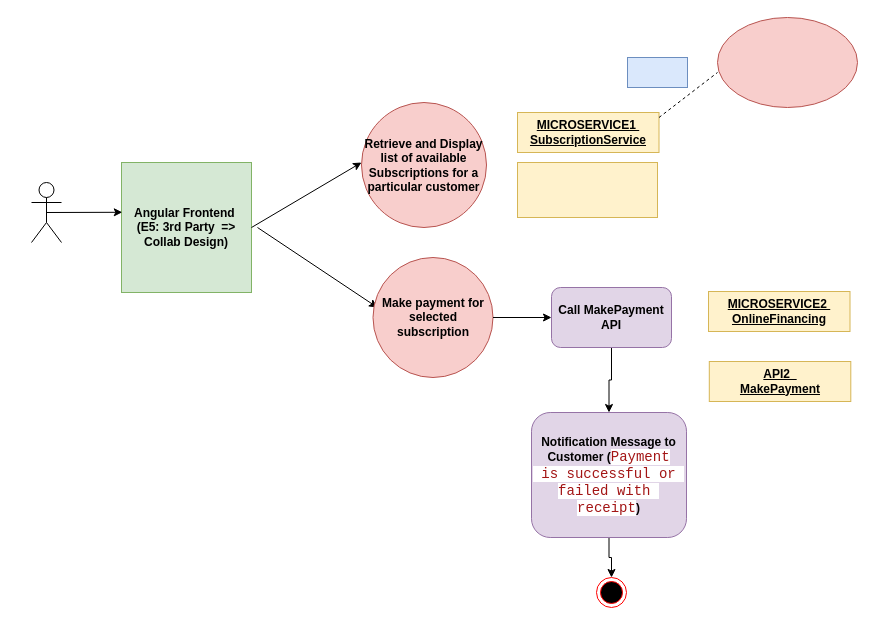
This 875x625 diagram has some shape labels left out. Each missing label, with the centre of its shape:
"API1 GetSubscription" goes at point 587,190.
"Customers" goes at point 46,212.
"Depends on" goes at point 657,72.
"E2: TaaS Entity and Reuses Subscription Service" goes at point 787,62.
